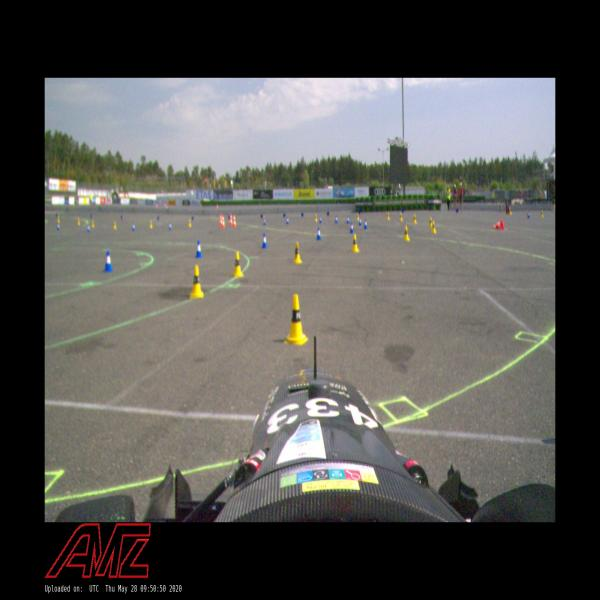blue_cone: (195, 239, 202, 259), (261, 232, 268, 250), (316, 227, 322, 241), (363, 219, 368, 229), (350, 222, 354, 234), (131, 221, 135, 231), (346, 215, 350, 224), (334, 215, 338, 224), (358, 217, 362, 226), (168, 222, 172, 230), (319, 215, 322, 224), (286, 216, 289, 224), (527, 211, 530, 218), (264, 217, 266, 226)
large_orange_cone: (232, 214, 236, 228), (228, 212, 232, 226), (222, 214, 226, 228), (219, 213, 222, 225)
orange_cone: (102, 250, 113, 273), (490, 217, 504, 231)
yellow_cone: (283, 293, 309, 347), (189, 265, 204, 299), (231, 251, 244, 277), (292, 241, 303, 265), (351, 234, 360, 253), (404, 225, 410, 242), (431, 220, 436, 234), (429, 216, 433, 228), (112, 221, 117, 230), (400, 212, 404, 222), (413, 214, 417, 224), (149, 220, 153, 229), (386, 211, 390, 220), (188, 220, 192, 228), (314, 214, 318, 222), (540, 210, 544, 218), (357, 212, 360, 220)
